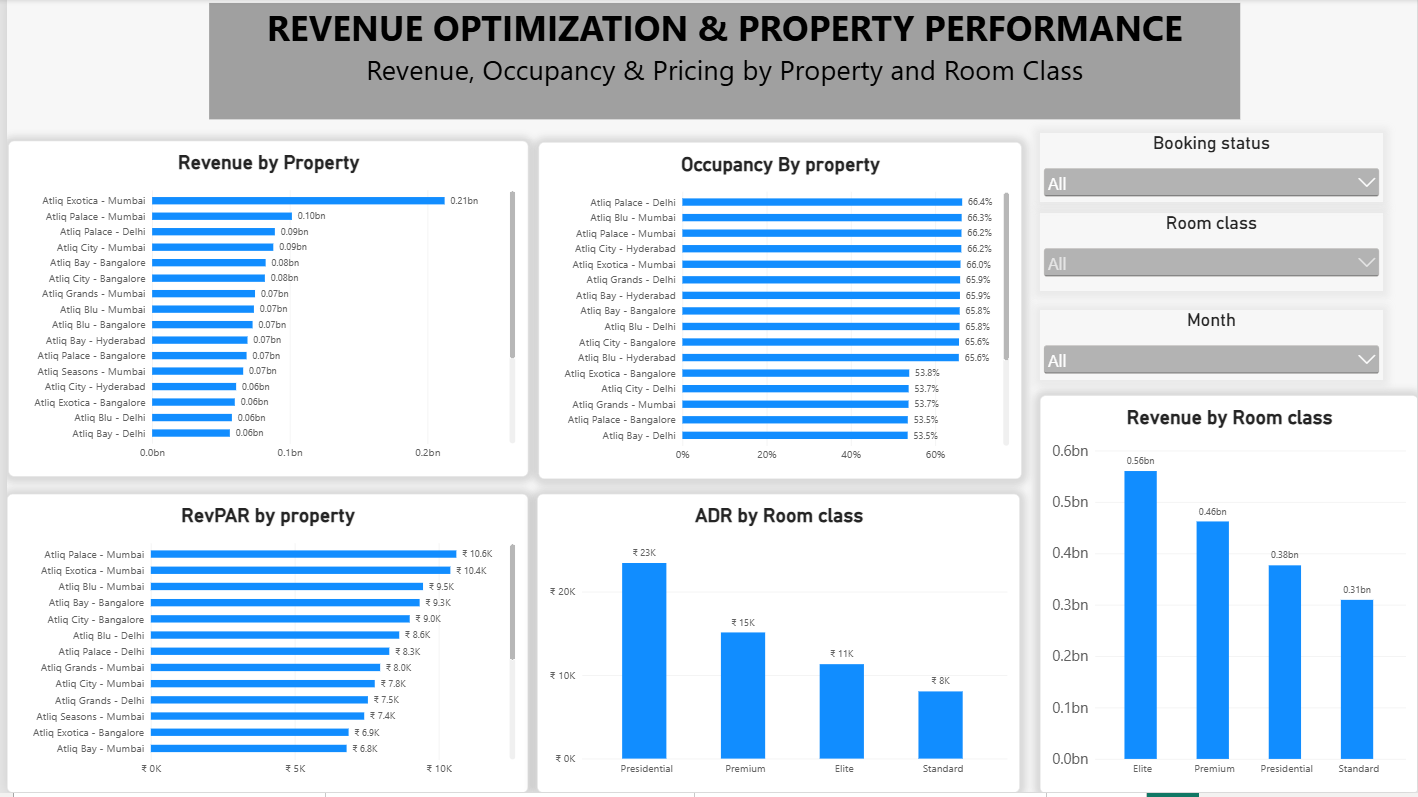

Layout of this report page (visuals, bound fields, positions):
{"tool":"powerbi","page":{"name":"Revenue Optimisation and Property Performance","canvas":[1920,1080],"ordinal":1},"visuals":[{"type":"clusteredBarChart","title":"Revenue by Property","fields":{"Category":["dim_hotels.Property Label"],"Y":["fact_bookings.Realized Revenue"]},"box":[1.9,192.3,707.5,457.3],"z":0},{"type":"clusteredBarChart","title":"Occupancy By property","fields":{"Category":["dim_hotels.Property Label"],"Y":["fact_aggregated_bookings.Occupancy %"]},"box":[723.3,194.2,657.8,458.7],"z":1000},{"type":"clusteredBarChart","title":"RevPAR by property","fields":{"Category":["dim_hotels.Property Label"],"Y":["fact_bookings.RevPAR"]},"box":[0,673.9,709.3,406.9],"z":2000},{"type":"clusteredColumnChart","title":"ADR by Room class","fields":{"Category":["dim_rooms.room_class"],"Y":["fact_bookings.ADR"]},"box":[722.4,673.9,657.1,406.9],"z":3000},{"type":"clusteredColumnChart","title":" Revenue by Room class","fields":{"Category":["dim_rooms.room_class"],"Y":["fact_bookings.Realized Revenue"]},"box":[1405.6,539.5,515.2,541.3],"z":4000},{"type":"slicer","title":"Booking status","fields":{"Values":["fact_bookings.booking_status"]},"box":[1405.6,182.9,466.7,93.3],"z":5000},{"type":"slicer","title":"Room class","fields":{"Values":["dim_rooms.room_class"]},"box":[1405.6,291.2,466.7,106.4],"z":6000},{"type":"slicer","title":"Month","fields":{"Values":["dim_date.mmm yy"]},"box":[1405.6,423.7,466.7,95.2],"z":7000},{"type":"textbox","box":[274.4,5.6,1403.7,158.7],"z":8000}]}

Visuals, with their boxes in screenshot pixels (x1, y1, x2, y2), scaled from the page's 1920x1080 canvas onto the 1418x797 screenshot:
"Revenue by Property" clusteredBarChart: x1=1, y1=142, x2=524, y2=479
"Occupancy By property" clusteredBarChart: x1=534, y1=143, x2=1020, y2=482
"RevPAR by property" clusteredBarChart: x1=0, y1=497, x2=524, y2=796
"ADR by Room class" clusteredColumnChart: x1=534, y1=497, x2=1019, y2=796
" Revenue by Room class" clusteredColumnChart: x1=1038, y1=398, x2=1417, y2=796
"Booking status" slicer: x1=1038, y1=135, x2=1383, y2=204
"Room class" slicer: x1=1038, y1=215, x2=1383, y2=293
"Month" slicer: x1=1038, y1=313, x2=1383, y2=383
textbox: x1=203, y1=4, x2=1239, y2=121
